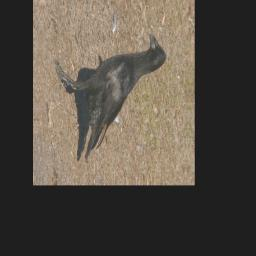Crow: (50, 33, 169, 164)
